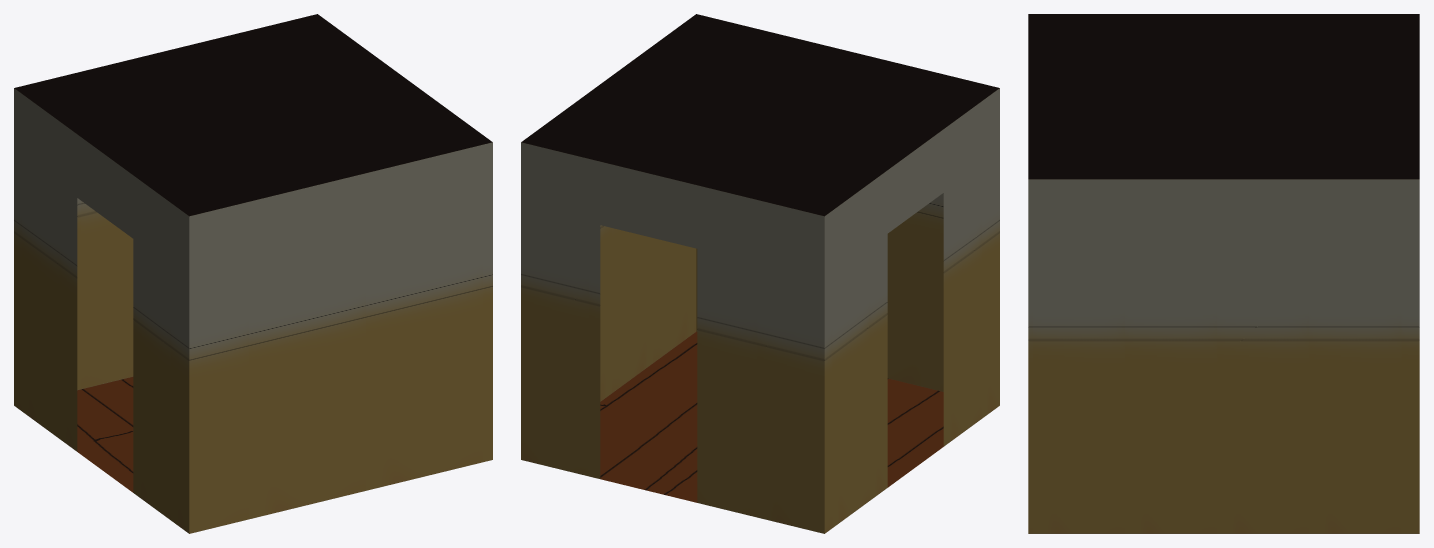
File: abstellraum.obj
3 renders of one model, left to right at view 1: azimuth 30°, elevation 25°; view 2: azimuth 150°, elevation 25°; view 3: azimuth 270°, elevation 25°, orthographic. The views are drawn at different scales.
Visible parts, largest first — view 1: Cube_Cube_wallpaper, Cube_Cube_ceiling, Cube_Cube_floor; view 2: Cube_Cube_wallpaper, Cube_Cube_ceiling, Cube_Cube_floor; view 3: Cube_Cube_wallpaper, Cube_Cube_ceiling.
Boxes of the visible parts, x1=… form: Cube_Cube_wallpaper: x1=14, y1=88, x2=492, y2=533; Cube_Cube_ceiling: x1=14, y1=14, x2=492, y2=216; Cube_Cube_floor: x1=77, y1=377, x2=133, y2=492; Cube_Cube_wallpaper: x1=521, y1=88, x2=999, y2=533; Cube_Cube_ceiling: x1=521, y1=14, x2=999, y2=216; Cube_Cube_floor: x1=600, y1=331, x2=943, y2=502; Cube_Cube_wallpaper: x1=1028, y1=179, x2=1419, y2=533; Cube_Cube_ceiling: x1=1028, y1=14, x2=1419, y2=179.
Size of the model in its own units: 2.5 by 2.5 by 2.5.
3 materials, 2 textured.
